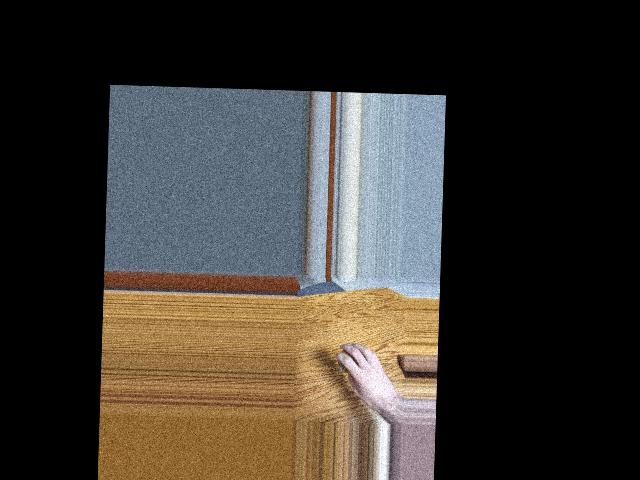onion: (338, 348, 362, 374)
